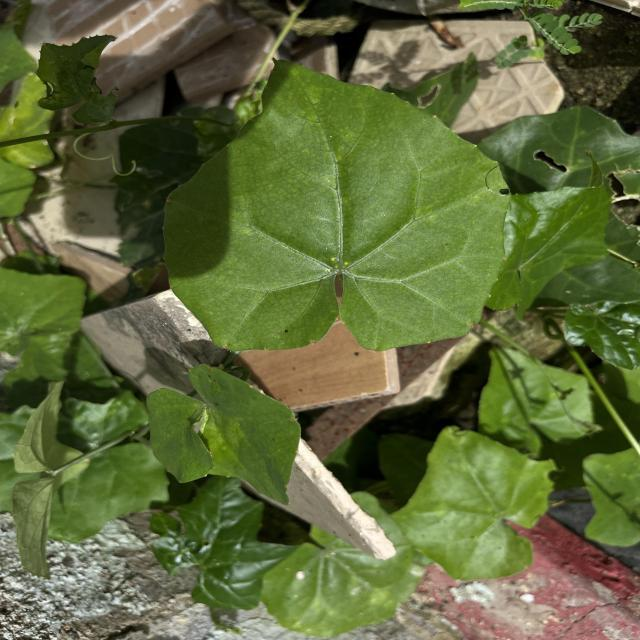Coccinia grandis: (159, 54, 516, 355)
